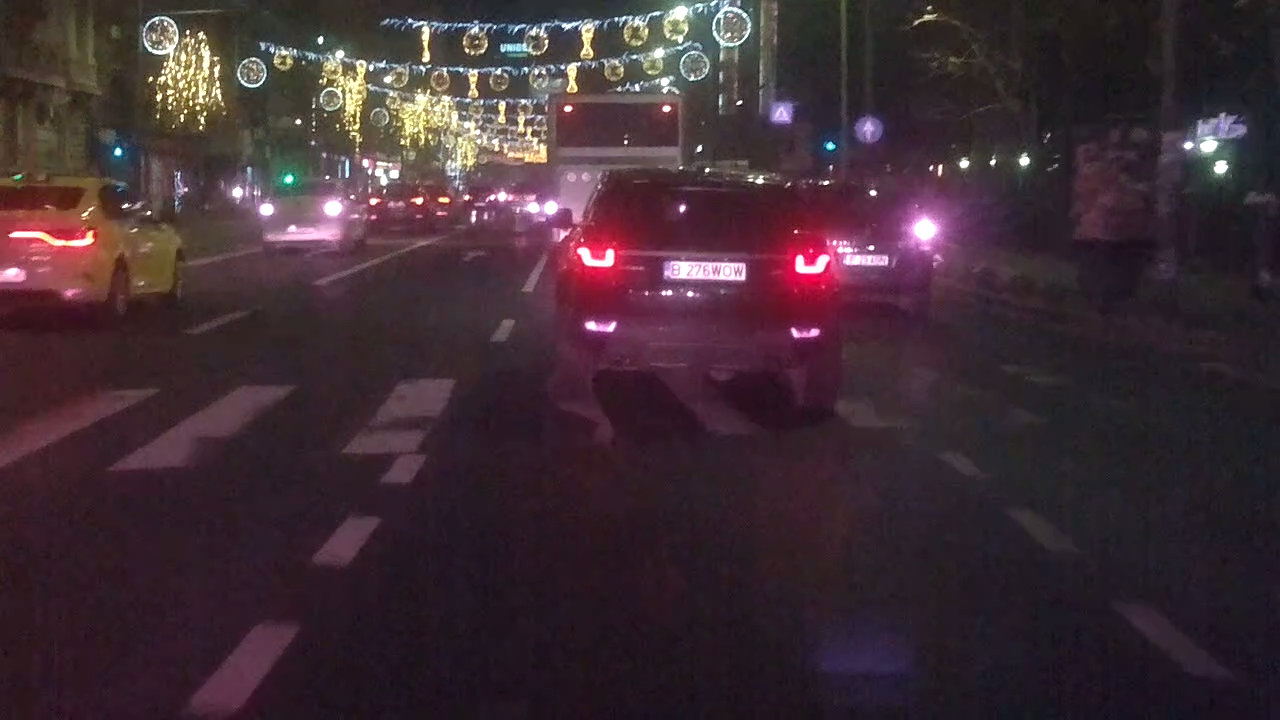license-plate: (660, 257, 750, 283)
